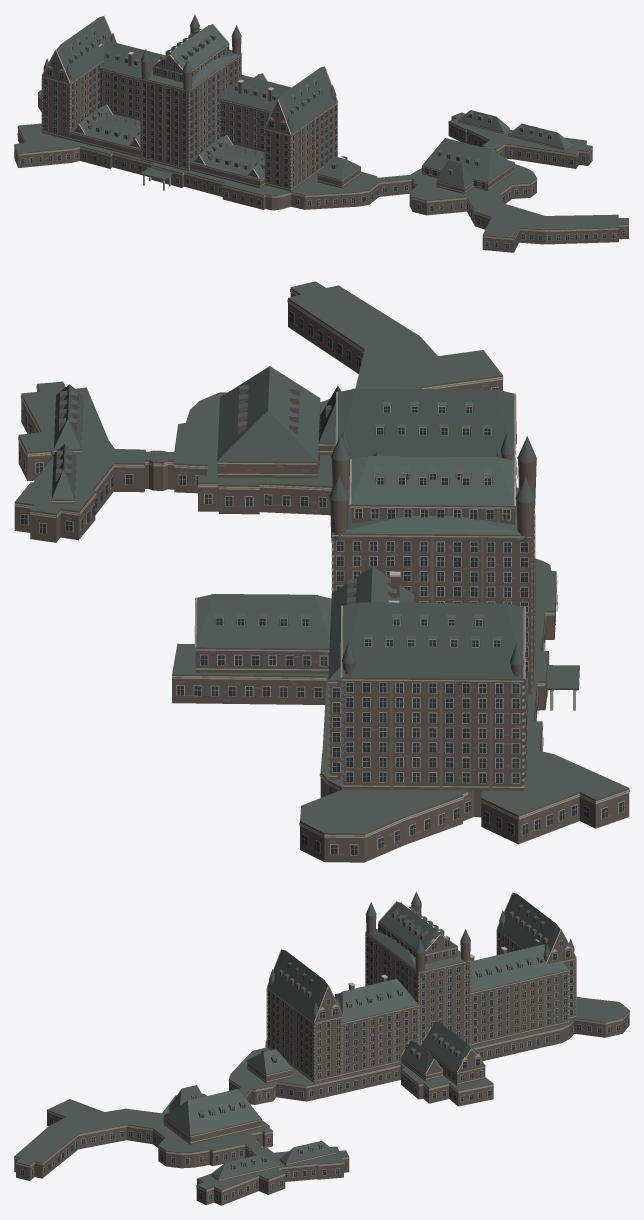
The model's file is fairmont-banff-springs-near.glb.
3 views of the same model, one above another, from view 1: azimuth 30°, elevation 25°; view 2: azimuth 150°, elevation 25°; view 3: azimuth 270°, elevation 25° (orthographic). The views are drawn at different scales.
Parts seen in each view (by area): view 1: fairmont-banff-springs-0-stone, fairmont-banff-springs-0-roof, fairmont-banff-springs-0-trim, fairmont-banff-springs-0-glass, fairmont-banff-springs-0-ashlar, fairmont-banff-springs-0-glow; view 2: fairmont-banff-springs-0-roof, fairmont-banff-springs-0-stone, fairmont-banff-springs-0-trim, fairmont-banff-springs-0-glass, fairmont-banff-springs-0-ashlar, fairmont-banff-springs-0-glow; view 3: fairmont-banff-springs-0-stone, fairmont-banff-springs-0-roof, fairmont-banff-springs-0-trim, fairmont-banff-springs-0-glass, fairmont-banff-springs-0-ashlar, fairmont-banff-springs-0-glow.
Part boxes in pixels (x1,y1,x2,y2): fairmont-banff-springs-0-stone: (14,27,628,252); fairmont-banff-springs-0-roof: (14,15,628,237); fairmont-banff-springs-0-trim: (14,15,628,248); fairmont-banff-springs-0-glass: (14,31,625,248); fairmont-banff-springs-0-ashlar: (15,48,625,248); fairmont-banff-springs-0-glow: (54,36,606,238); fairmont-banff-springs-0-roof: (15,281,628,833); fairmont-banff-springs-0-stone: (14,287,629,862); fairmont-banff-springs-0-trim: (14,289,629,855); fairmont-banff-springs-0-glass: (18,312,624,854); fairmont-banff-springs-0-ashlar: (19,307,619,855); fairmont-banff-springs-0-glow: (259,344,527,782); fairmont-banff-springs-0-stone: (14,904,629,1205); fairmont-banff-springs-0-roof: (14,891,628,1189); fairmont-banff-springs-0-trim: (14,892,629,1200); fairmont-banff-springs-0-glass: (21,907,629,1200); fairmont-banff-springs-0-ashlar: (18,923,628,1199); fairmont-banff-springs-0-glow: (67,922,572,1167).
Bounding box in the file's own units: 218 × 59.5 × 248.
